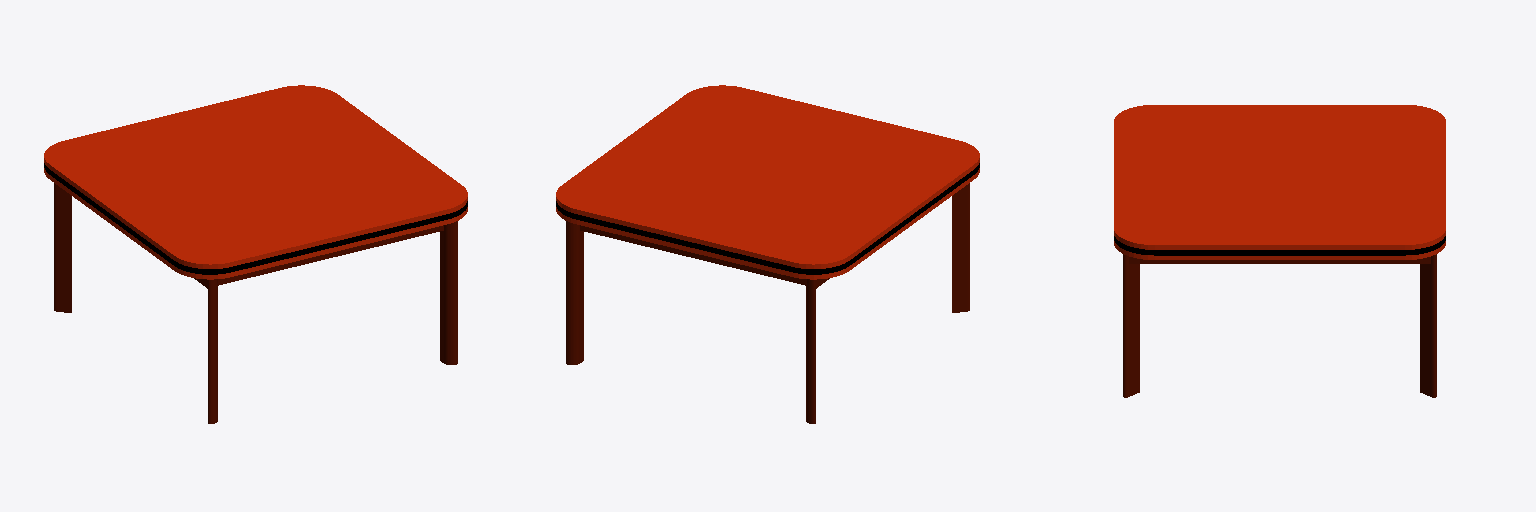
The model's file is Table.obj.
3 views of the same model, side by side, from view 1: azimuth 30°, elevation 25°; view 2: azimuth 150°, elevation 25°; view 3: azimuth 270°, elevation 25° (orthographic).
Visible parts, largest first — view 1: Table; view 2: Table; view 3: Table.
Boxes of the visible parts, x1,y1,x2,y2 form: Table: [44, 85, 467, 423]; Table: [556, 85, 979, 423]; Table: [1114, 105, 1445, 397].
Bounding box in the file's own units: 4 × 2.15 × 4.